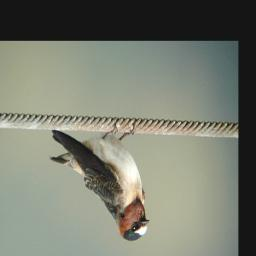Swallow: (48, 121, 154, 247)
